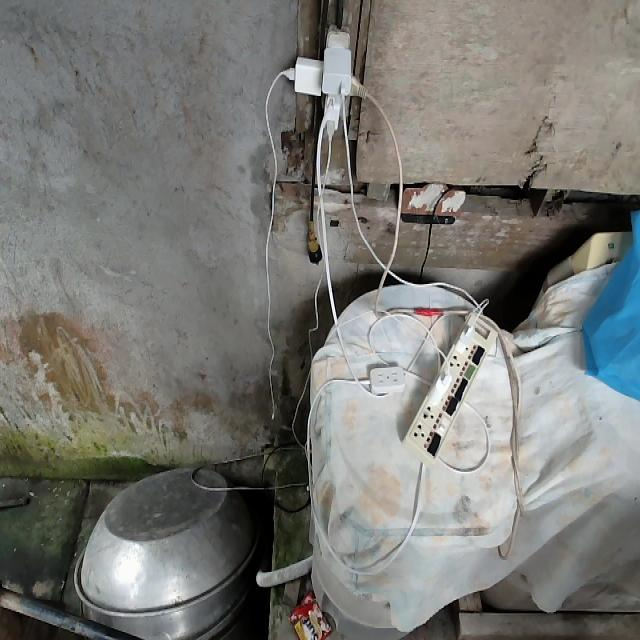-: (281, 21, 366, 143)
